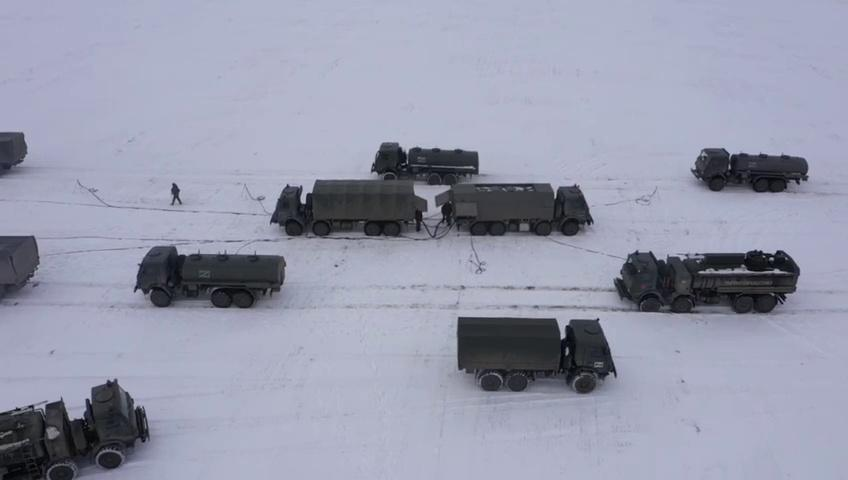person: (170, 183, 182, 206)
truck: (0, 379, 152, 480), (456, 316, 618, 394), (615, 250, 801, 314), (134, 246, 286, 308), (270, 180, 428, 236), (434, 182, 594, 236), (690, 146, 810, 192), (370, 142, 480, 185), (0, 232, 42, 297), (0, 129, 31, 171)
